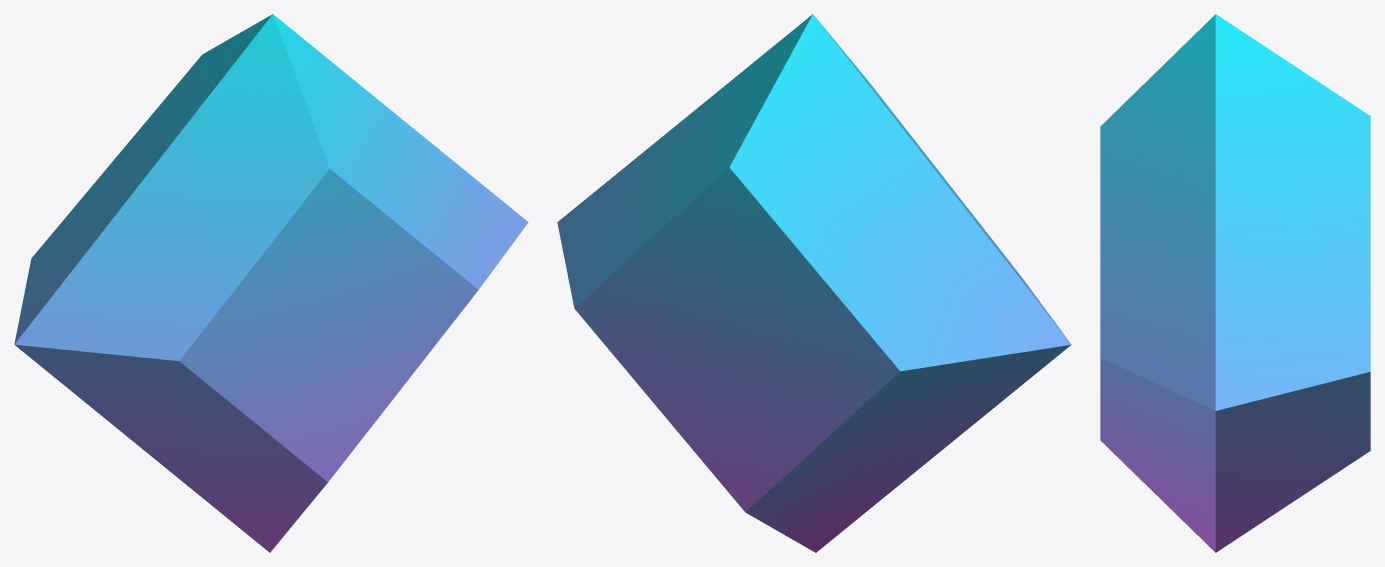
File: gem-small.glb
3 views of the same model, side by side, from view 1: azimuth 30°, elevation 25°; view 2: azimuth 150°, elevation 25°; view 3: azimuth 270°, elevation 25° (orthographic).
Parts seen in each view (by area): view 1: Gem_Small; view 2: Gem_Small; view 3: Gem_Small.
Boxes of the visible parts, box(x1,y1,x2,y2) form: Gem_Small: box(14, 14, 528, 552); Gem_Small: box(557, 14, 1071, 552); Gem_Small: box(1100, 14, 1370, 552).
Size of the model in its own units: 0.3007 by 0.3007 by 0.1363.
Materials: 1 (1 with a texture image).
